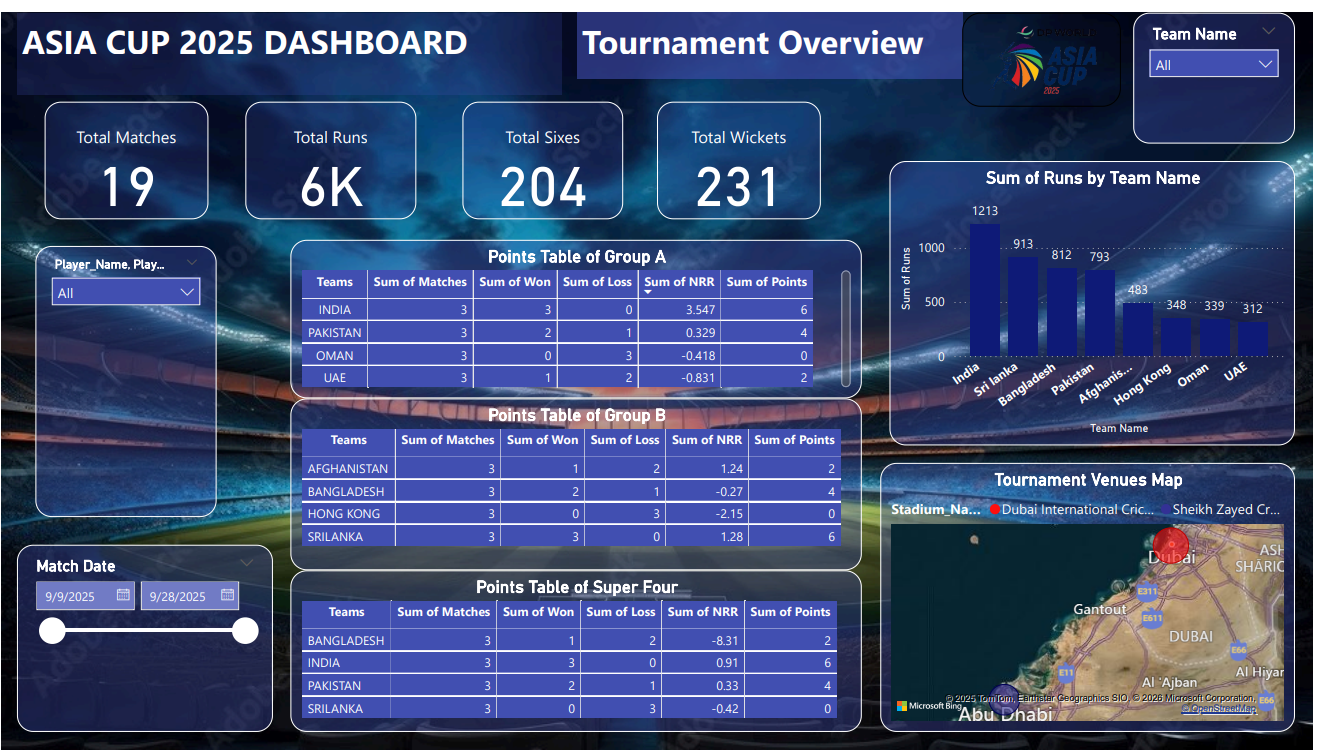

Layout of this report page (visuals, bound fields, positions):
{"tool":"powerbi","page":{"name":"DASHBOARD","canvas":[1280,720],"ordinal":0},"visuals":[{"type":"textbox","box":[15.1,0,532.9,79.4],"z":0},{"type":"cardVisual","fields":{"Data":["HScore.Total Matches"]},"box":[15,81.7,160,115],"z":1000},{"type":"cardVisual","fields":{"Data":["HScore.Total Runs"]},"box":[215,86.7,166.7,115],"z":2000},{"type":"cardVisual","fields":{"Data":["HScore.Total Sixes"]},"box":[411.7,85,156.7,115],"z":3000},{"type":"cardVisual","fields":{"Data":["HScore.Total Wickets"]},"box":[596.7,80,160,115],"z":4000},{"type":"slicer","fields":{"Values":["Players.Player_Name","Players.Player_ID","Players.Role"]},"box":[0,243.3,160,265],"z":5000},{"type":"tableEx","title":"Points Table of Group B","fields":{"Values":["pointsTableGroupB.Teams","Sum(pointsTableGroupB.Matches)","Sum(pointsTableGroupB.Won)","Sum(pointsTableGroupB.Loss)","Sum(pointsTableGroupB.NRR)","Sum(pointsTableGroupB.Points)"]},"box":[175,376.7,545,168.3],"z":6000},{"type":"tableEx","title":"Points Table of Group A","fields":{"Values":["PointsTableGroupA.Teams","Sum(PointsTableGroupA.Matches)","Sum(PointsTableGroupA.Won)","Sum(PointsTableGroupA.Loss)","Sum(PointsTableGroupA.NRR)","Sum(PointsTableGroupA.Points)"]},"box":[175,221.7,545,155],"z":7000},{"type":"tableEx","title":"Points Table of Super Four","fields":{"Values":["pointsTableSuperFour.Teams","Sum(pointsTableSuperFour.Matches)","Sum(pointsTableSuperFour.Won)","Sum(pointsTableSuperFour.Loss)","Sum(pointsTableSuperFour.NRR)","Sum(pointsTableSuperFour.Points)"]},"box":[175,545,545,158.3],"z":8000},{"type":"clusteredColumnChart","fields":{"Category":["MostRuns.Team Name"],"Y":["Sum(MostRuns.Runs)"]},"box":[733.3,200,365,278.3],"z":9000},{"type":"slicer","title":"Team Name","fields":{"Values":["Teams.Team_Name"]},"box":[940,10,158.3,128.3],"z":10000}]}

Visuals, with their boxes in screenshot pixels (x1, y1, x2, y2), scaled from the page's 1280x720 canvas onto the 1318x751 screenshot:
textbox: l=16, t=0, r=564, b=83
cardVisual - HScore.Total Matches: l=15, t=85, r=180, b=205
cardVisual - HScore.Total Runs: l=221, t=90, r=393, b=210
cardVisual - HScore.Total Sixes: l=424, t=89, r=585, b=209
cardVisual - HScore.Total Wickets: l=614, t=83, r=779, b=203
slicer - Players.Player_Name x Players.Player_ID: l=0, t=254, r=165, b=530
"Points Table of Group B" tableEx: l=180, t=393, r=741, b=568
"Points Table of Group A" tableEx: l=180, t=231, r=741, b=393
"Points Table of Super Four" tableEx: l=180, t=568, r=741, b=734
clusteredColumnChart - MostRuns.Team Name x Sum(MostRuns.Runs): l=755, t=209, r=1131, b=499
"Team Name" slicer: l=968, t=10, r=1131, b=144
